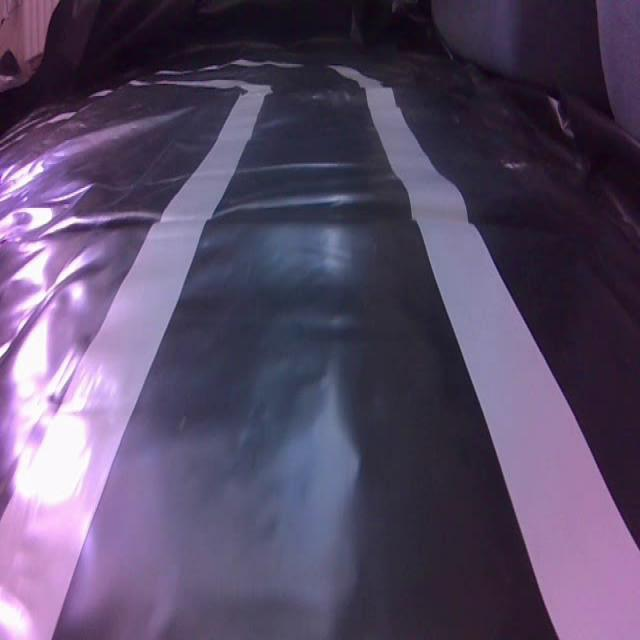LineaCarril: (336, 67, 640, 638), (0, 82, 269, 638)
